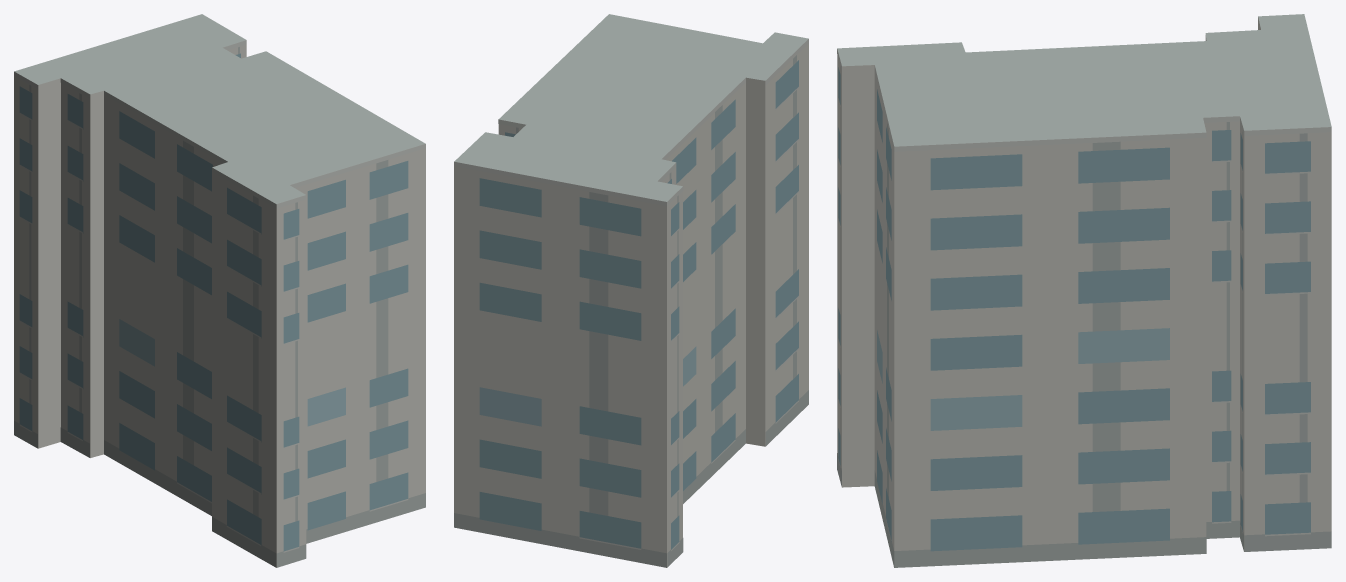
File: survey-upis-32635304.glb
3 views of the same model, side by side, from view 1: azimuth 30°, elevation 25°; view 2: azimuth 150°, elevation 25°; view 3: azimuth 270°, elevation 25° (orthographic). The views are drawn at different scales.
Visible parts, largest first — view 1: survey-upis-32635304.tmp; view 2: survey-upis-32635304.tmp; view 3: survey-upis-32635304.tmp.
Boxes of the visible parts, x1,y1,x2,y2 form: survey-upis-32635304.tmp: (14,14,425,567); survey-upis-32635304.tmp: (454,14,808,567); survey-upis-32635304.tmp: (837,14,1331,567).
Size of the model in its own units: 13.11 by 19.4 by 20.65.
